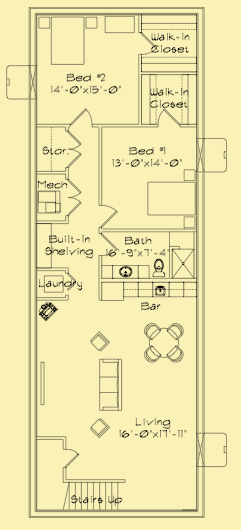bed: (49, 15, 88, 68), (146, 180, 196, 218)
door: (65, 179, 82, 217), (67, 108, 97, 129), (66, 131, 82, 167), (97, 230, 119, 256), (98, 201, 118, 228), (136, 32, 158, 56), (155, 107, 180, 128), (63, 447, 82, 469)
large_sink: (151, 257, 168, 277)
large_sofa: (98, 358, 123, 412)
round_table: (143, 321, 188, 367)
small_sink: (100, 264, 152, 280), (89, 330, 110, 352), (91, 418, 111, 441)
stairs: (58, 480, 127, 513)
window: (25, 63, 40, 105), (197, 137, 205, 174), (198, 431, 204, 468)
